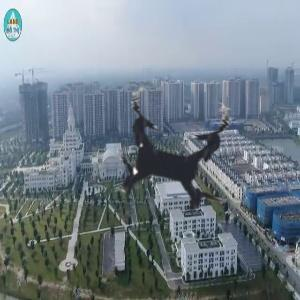drone: (58, 43, 284, 269)
